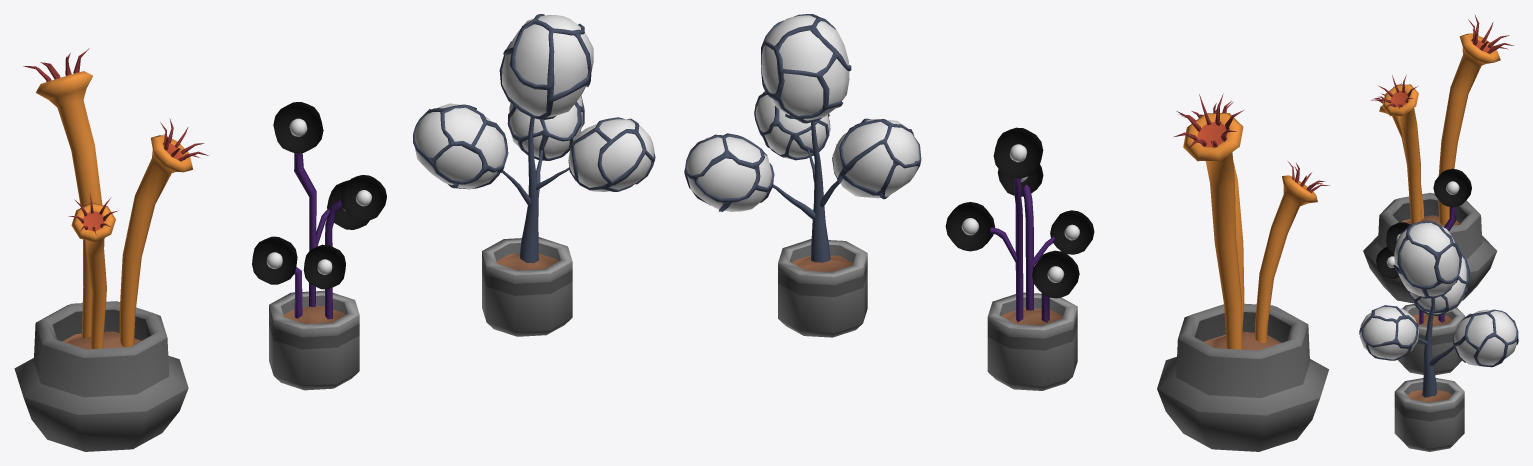
File: Exotic Plants.fbx
The picture shows the model from 3 angles, left to right: view 1: azimuth 30°, elevation 25°; view 2: azimuth 150°, elevation 25°; view 3: azimuth 270°, elevation 25°; orthographic projection. The views are drawn at different scales.
Parts seen in each view (by area): view 1: Plant2, Plant 4, Plant3; view 2: Plant2, Plant 4, Plant3; view 3: Plant2, Plant 4, Plant3.
Part boxes in pixels (x1,y1,x2,y2): Plant2: (413, 14, 655, 336); Plant 4: (14, 48, 208, 451); Plant3: (252, 102, 386, 390); Plant2: (684, 14, 921, 337); Plant 4: (1157, 94, 1329, 451); Plant3: (945, 127, 1094, 390); Plant2: (1359, 220, 1518, 451); Plant 4: (1363, 15, 1513, 303); Plant3: (1376, 168, 1471, 375).
Bounding box in the file's own units: 2.81 × 1.61 × 0.8726.
